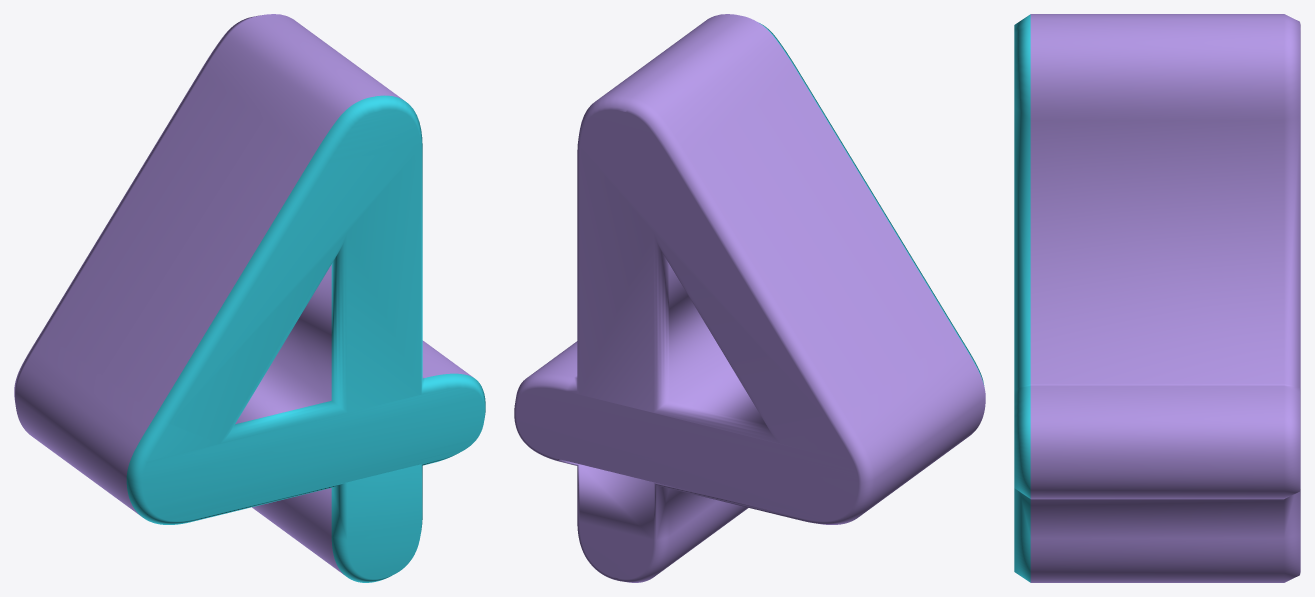
The picture shows the model from 3 angles, left to right: view 1: azimuth 30°, elevation 25°; view 2: azimuth 150°, elevation 25°; view 3: azimuth 270°, elevation 25°; orthographic projection. The views are drawn at different scales.
Parts seen in each view (by area): view 1: Empat 3D; view 2: Empat 3D; view 3: Empat 3D.
Part boxes in pixels (left/top/right/bottom): Empat 3D: left=14, top=14, right=485, bottom=582; Empat 3D: left=514, top=14, right=985, bottom=582; Empat 3D: left=1014, top=14, right=1300, bottom=582.
Bounding box in the file's own units: 128 × 165 × 77.6.
